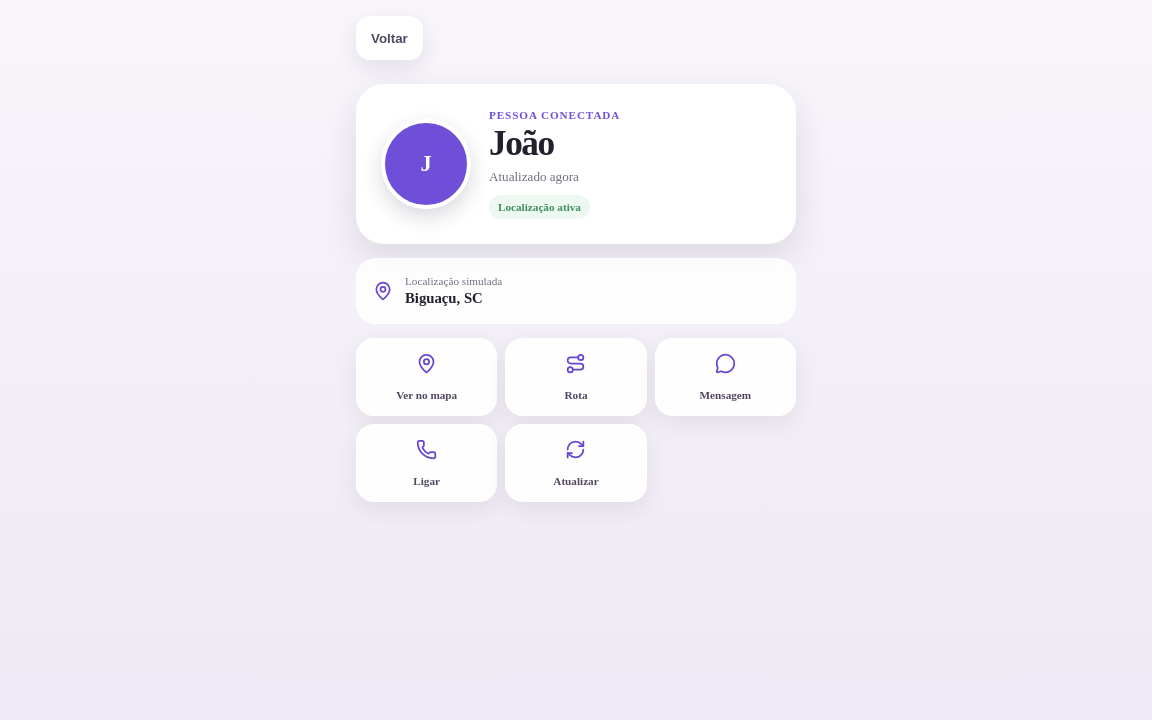
PersonDetailPage › mostra feedback local para Ligar
The width and height of the screenshot is (1152, 720).
Click the button "Ligar" at (427, 463), box top-left (356, 424), bottom-right (497, 502)
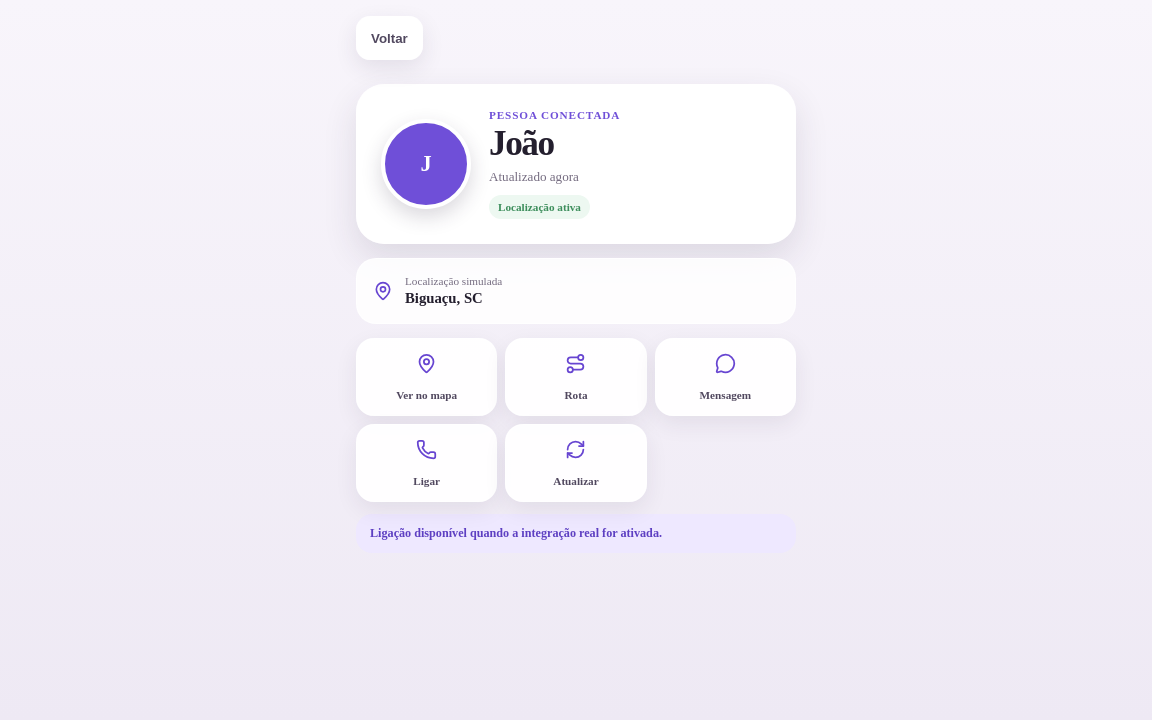
Expected: the message reads "Ligação disponível quando a integração real for ativada.", top-left (370, 526), bottom-right (662, 540)
